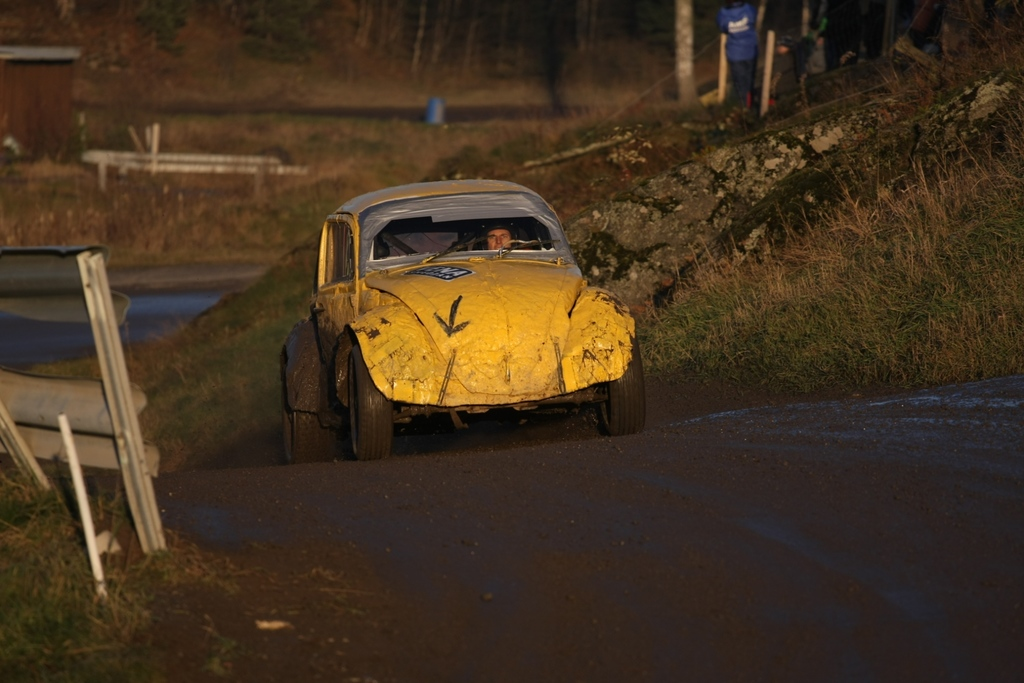Car: (274, 171, 647, 461)
